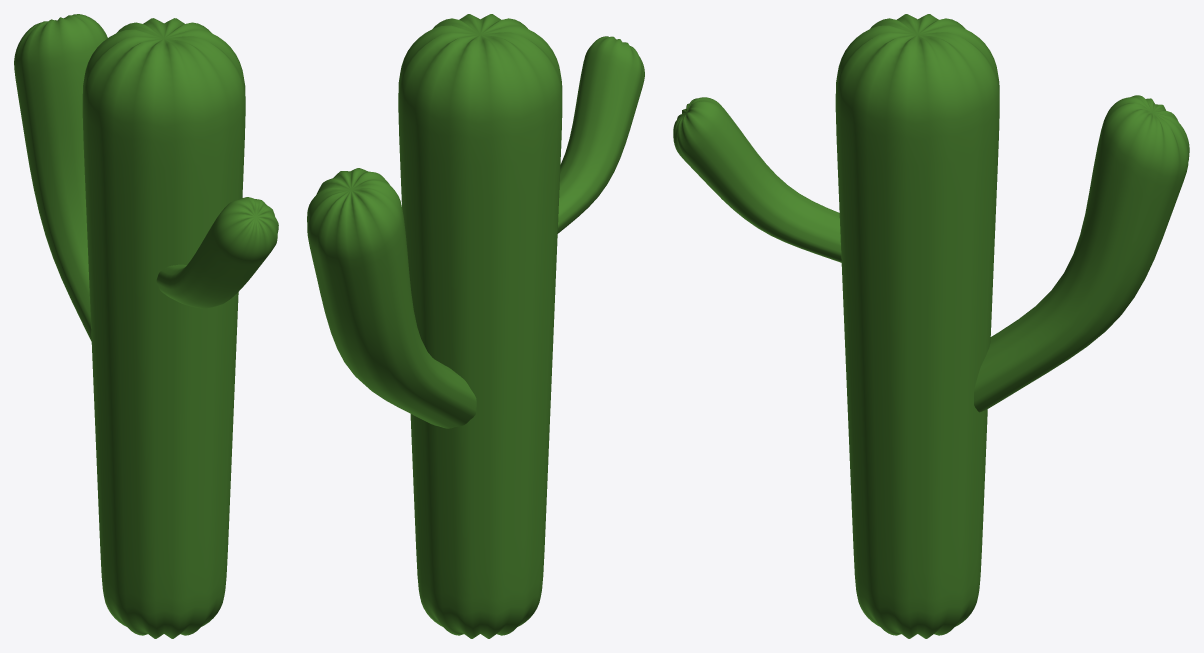
The model's file is Кактус 2.fbx.
The picture shows the model from 3 angles, left to right: view 1: azimuth 30°, elevation 25°; view 2: azimuth 150°, elevation 25°; view 3: azimuth 270°, elevation 25°; orthographic projection.
Visible parts, largest first — view 1: Circle.002; view 2: Circle.002; view 3: Circle.002.
Part boxes in pixels (box(x1,y1,x2,y2)): Circle.002: box(14, 14, 278, 638); Circle.002: box(307, 14, 644, 638); Circle.002: box(673, 14, 1189, 638).
Bounding box in the file's own units: 90.2 × 363 × 284.
